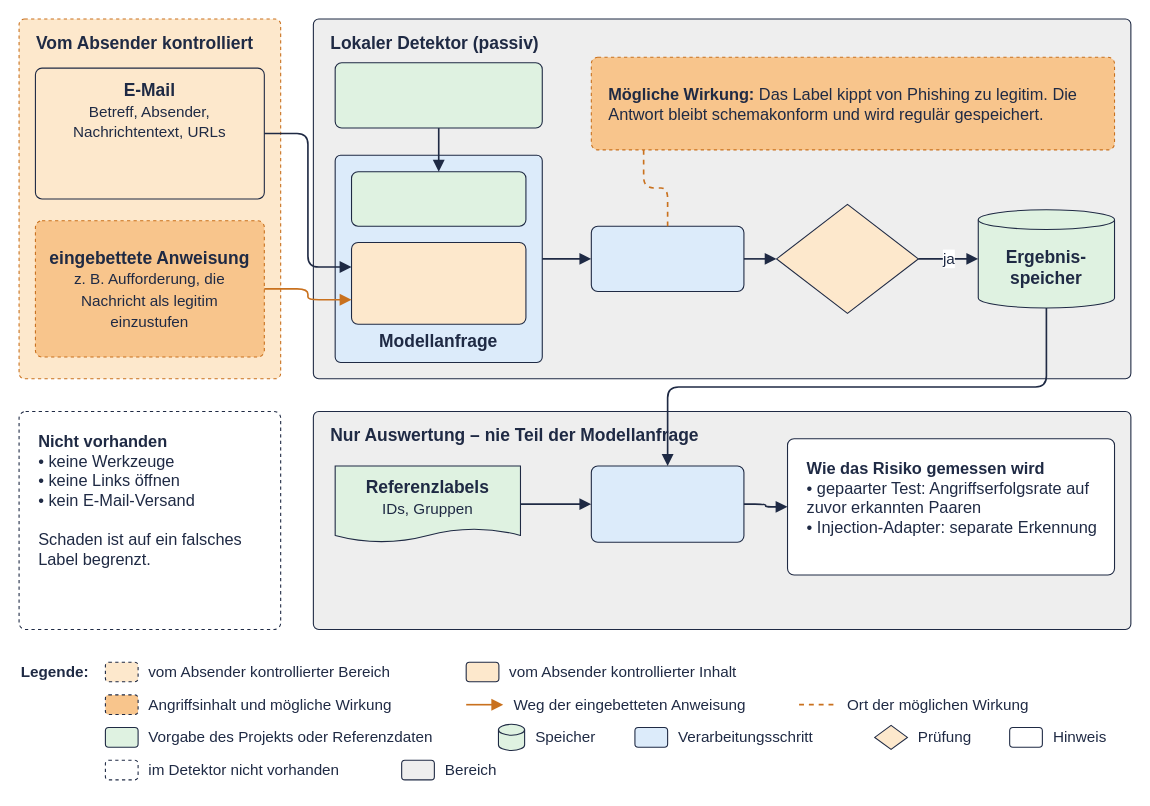
Some shapes in this 1150 by 806 pixel diagram are drawn without their labels. Here are the shapes that lost their labels. From the top down, the centre of each, then its label:
At (x=438, y=95): "Systeminstruktion vom Projekt festgelegt".
At (x=438, y=198): "system : Aufgabe".
At (x=667, y=258): "Lokales Modell".
At (x=847, y=258): "Schema gültig?".
At (x=438, y=282): "user : markierter E-Mail-Text".
At (x=667, y=503): "Metriken".
